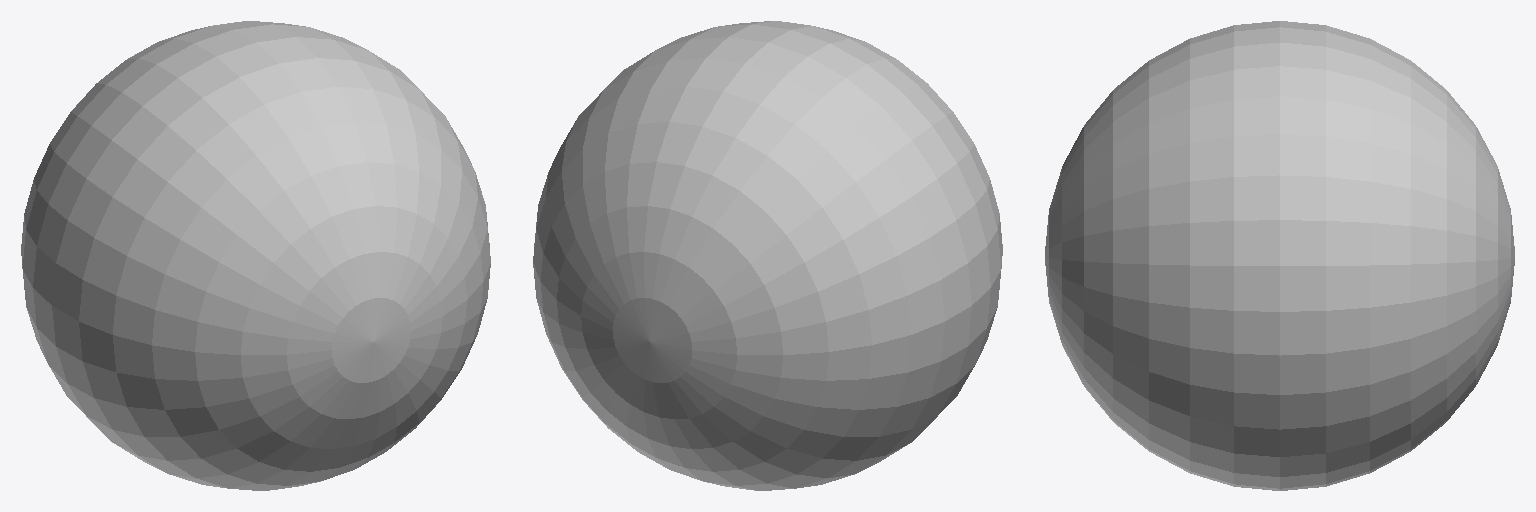
The model's file is ball.obj.
3 views of the same model, side by side, from view 1: azimuth 30°, elevation 25°; view 2: azimuth 150°, elevation 25°; view 3: azimuth 270°, elevation 25° (orthographic).
Parts seen in each view (by area): view 1: Sphere.001; view 2: Sphere.001; view 3: Sphere.001.
Part boxes in pixels (x1,y1,x2,y2): Sphere.001: (21, 21, 490, 490); Sphere.001: (533, 21, 1002, 490); Sphere.001: (1045, 21, 1514, 490).
Bounding box in the file's own units: 0.48 × 0.48 × 0.48.